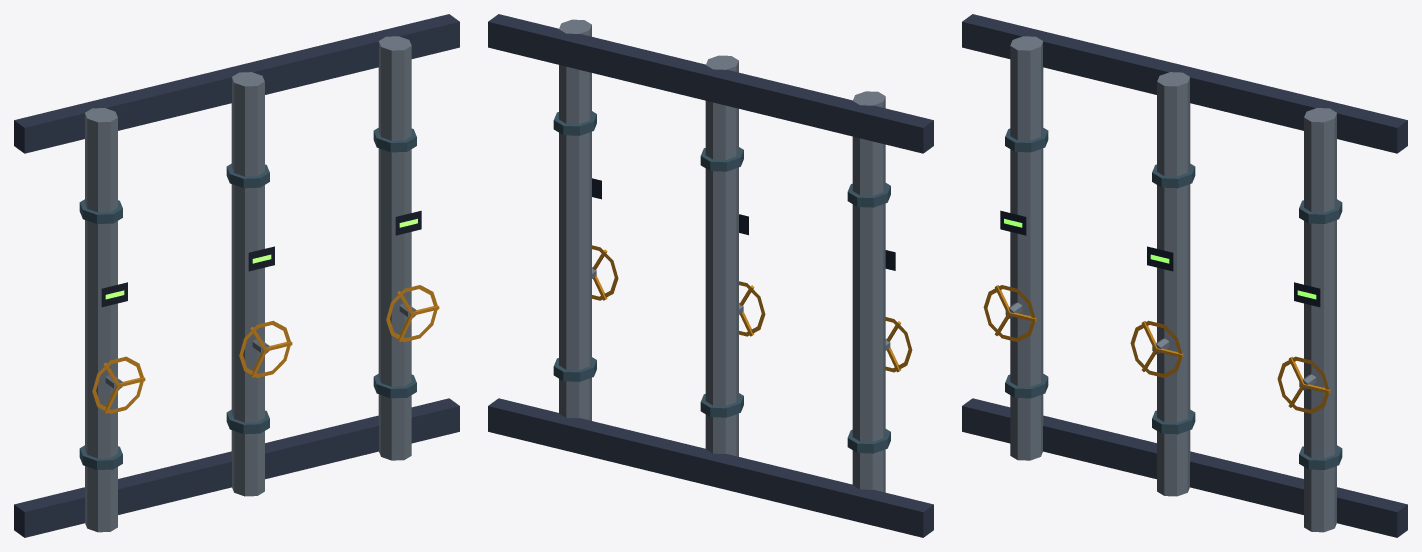
The model's file is fus_wall_pipe_manifold.glb.
The picture shows the model from 3 angles, left to right: view 1: azimuth 30°, elevation 25°; view 2: azimuth 150°, elevation 25°; view 3: azimuth 330°, elevation 25°; orthographic projection.
Visible parts, largest first — view 1: pressure_riser, mounting_rail, pipe_collar, valve_wheel, digital_flow_meter; view 2: pressure_riser, mounting_rail, pipe_collar, valve_wheel, digital_flow_meter; view 3: pressure_riser, mounting_rail, pipe_collar, valve_wheel, digital_flow_meter.
Boxes of the visible parts, x1,y1,x2,y2 form: pressure_riser: (85, 36, 416, 532); mounting_rail: (14, 14, 459, 537); pipe_collar: (79, 128, 416, 469); valve_wheel: (92, 285, 439, 413); digital_flow_meter: (101, 210, 421, 307); pressure_riser: (559, 19, 890, 492); mounting_rail: (488, 14, 933, 537); pipe_collar: (553, 111, 890, 453); valve_wheel: (592, 245, 912, 372); digital_flow_meter: (592, 178, 895, 270); pressure_riser: (1005, 36, 1336, 532); mounting_rail: (962, 14, 1407, 537); pipe_collar: (1005, 128, 1342, 469); valve_wheel: (983, 285, 1330, 413); digital_flow_meter: (1000, 210, 1320, 307).
Size of the model in its own units: 4 by 3.6 by 0.55.
